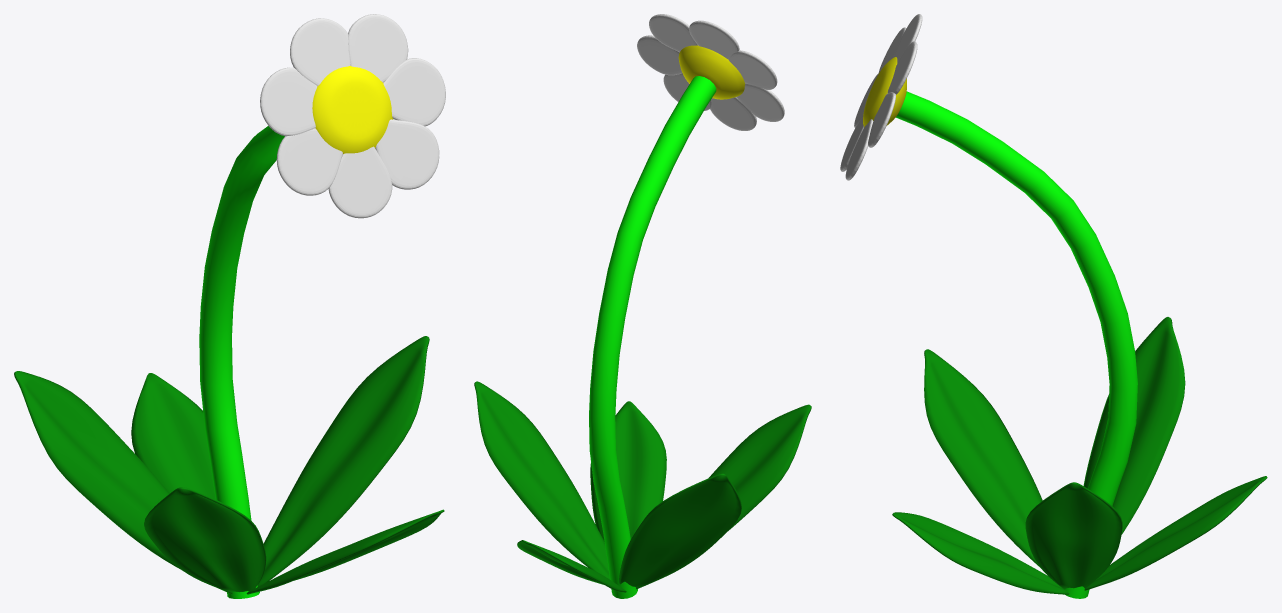
The model's file is Flower.fbx.
The picture shows the model from 3 angles, left to right: view 1: azimuth 30°, elevation 25°; view 2: azimuth 150°, elevation 25°; view 3: azimuth 270°, elevation 25°; orthographic projection. The views are drawn at different scales.
Parts seen in each view (by area): view 1: Plane.020, Plane.015, Vert, Plane.017, Plane.018, Plane.016, Circle.005, Plane.019; view 2: Vert, Plane.015, Plane.017, Plane.020, Plane.019, Plane.018, Circle.005, Plane.016; view 3: Vert, Plane.018, Plane.017, Plane.015, Plane.019, Plane.016, Plane.020, Circle.005.
Part boxes in pixels (bbox=[...]): Plane.020: bbox=[260, 14, 445, 218]; Plane.015: bbox=[257, 336, 429, 586]; Vert: bbox=[199, 126, 284, 598]; Plane.017: bbox=[14, 371, 232, 594]; Plane.018: bbox=[144, 487, 266, 592]; Plane.016: bbox=[131, 373, 215, 499]; Circle.005: bbox=[312, 66, 393, 153]; Plane.019: bbox=[246, 509, 444, 594]; Vert: bbox=[589, 76, 716, 598]; Plane.015: bbox=[474, 381, 609, 579]; Plane.017: bbox=[619, 473, 741, 588]; Plane.020: bbox=[637, 14, 784, 130]; Plane.019: bbox=[590, 401, 666, 541]; Plane.018: bbox=[636, 404, 811, 588]; Circle.005: bbox=[678, 45, 745, 99]; Plane.016: bbox=[517, 540, 626, 592]; Vert: bbox=[896, 91, 1137, 598]; Plane.018: bbox=[924, 349, 1042, 567]; Plane.017: bbox=[1083, 317, 1185, 534]; Plane.015: bbox=[1025, 482, 1122, 589]; Plane.019: bbox=[892, 512, 1069, 594]; Plane.016: bbox=[1084, 476, 1267, 590]; Plane.020: bbox=[840, 14, 922, 180]; Circle.005: bbox=[863, 57, 906, 127].
Bounding box in the file's own units: 85.35 × 98.69 × 146.
